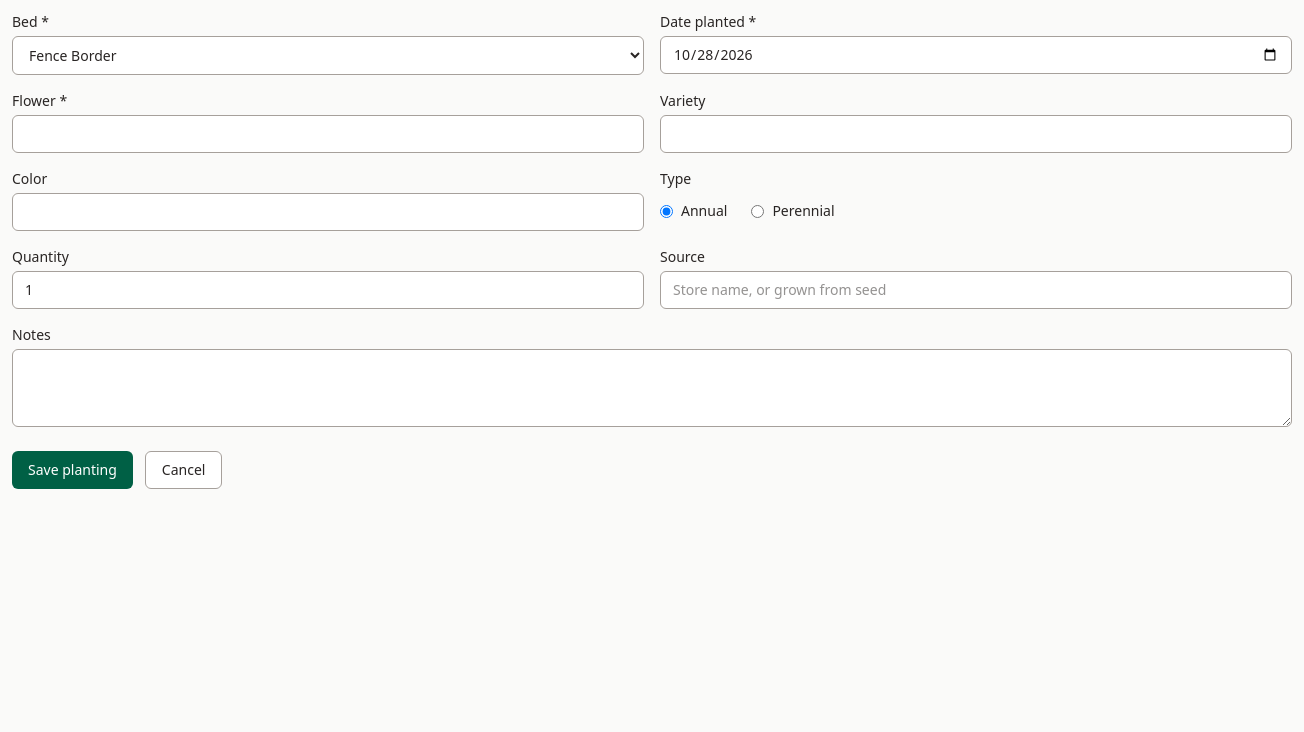
it: PlantingForm › shows errors and does not submit when the flower is missing
Click the button "Save planting" at [72, 470], box [12,451,133,489]
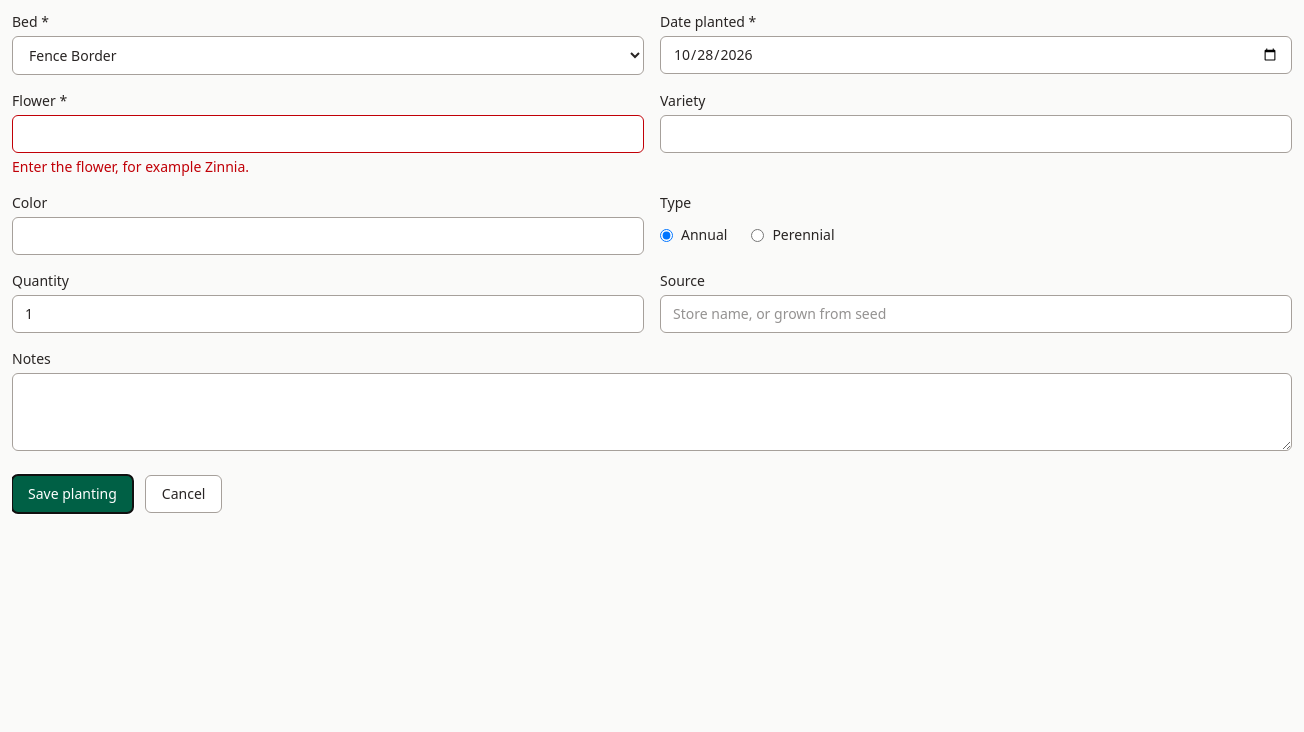
Expected: the text "Enter the flower, for example Zinnia." is shown, [12,157,249,176]
